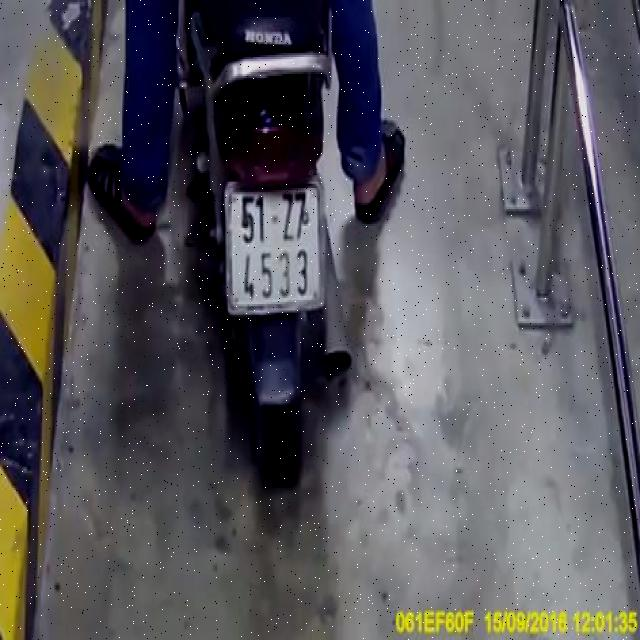1: (255, 195, 268, 246)
4: (241, 253, 258, 303)
5: (274, 245, 298, 295), (240, 192, 257, 247), (258, 246, 274, 303)
6: (298, 249, 312, 295)
7: (293, 192, 307, 242)
Z: (278, 188, 297, 242)
